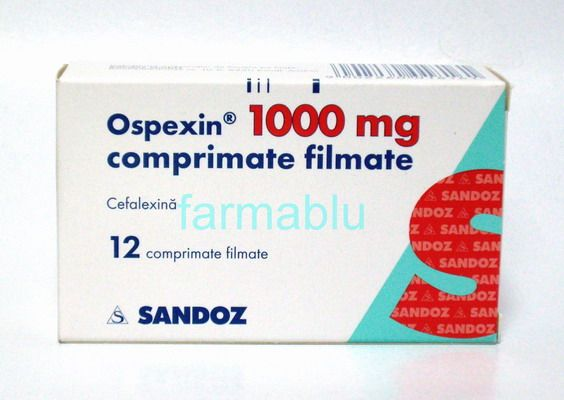Medicine: (56, 59, 512, 357)
